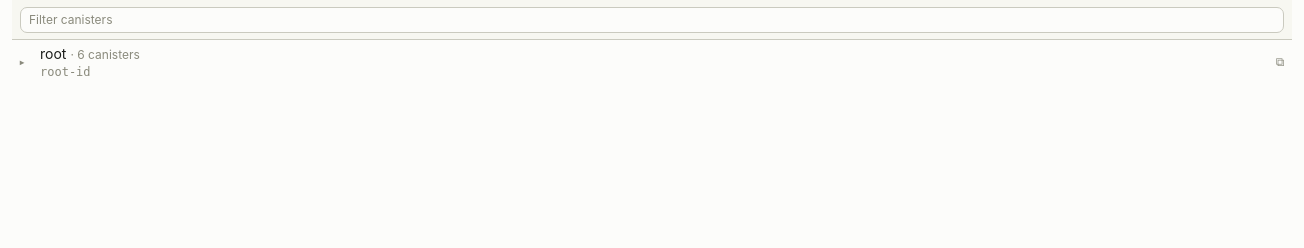
filtering reveals matches inside collapsed branches
Expected: the text "project_instance" is not shown
In the search field labelled "Filter canisters": (652, 20) [20, 7, 1284, 33], type "project_instance"
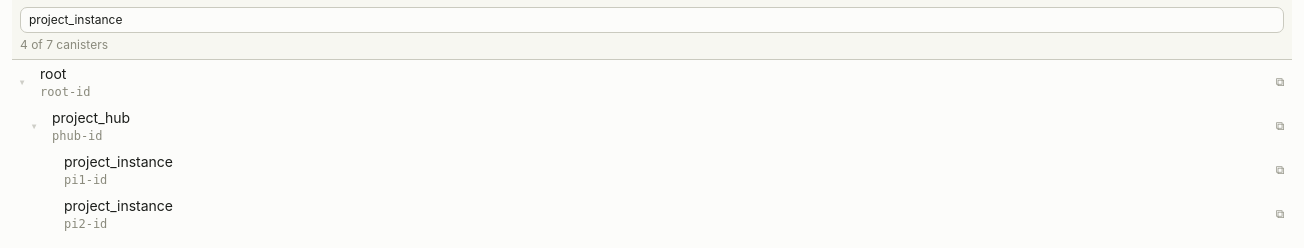
Result: the text "project_instance" is shown 2 times at [64, 153, 173, 170]; [64, 197, 173, 214]
